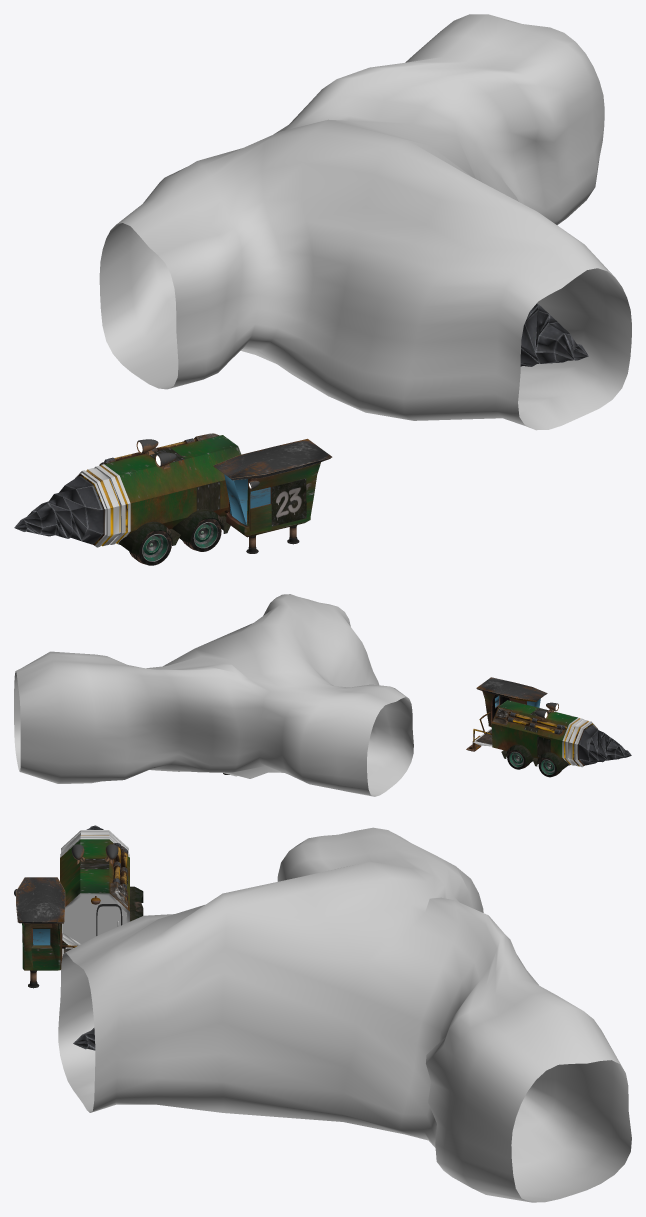
The model's file is TunnelMyFirst.fbx.
The picture shows the model from 3 angles, top to bottom: view 1: azimuth 30°, elevation 25°; view 2: azimuth 150°, elevation 25°; view 3: azimuth 270°, elevation 25°; orthographic projection. The views are drawn at different scales.
Parts seen in each view (by area): view 1: Turn3, defaultMaterial.005, defaultMaterial.003; view 2: Turn3, defaultMaterial.005; view 3: Turn3, defaultMaterial.005, defaultMaterial.085, defaultMaterial.002.
Boxes of the visible parts, <box> form: Turn3: <box>99,14,631,430</box>; defaultMaterial.005: <box>14,433,332,565</box>; defaultMaterial.003: <box>520,303,588,366</box>; Turn3: <box>14,594,413,796</box>; defaultMaterial.005: <box>466,677,631,777</box>; Turn3: <box>58,827,631,1202</box>; defaultMaterial.005: <box>14,825,143,970</box>; defaultMaterial.085: <box>63,896,126,943</box>; defaultMaterial.002: <box>97,906,120,935</box>.
Size of the model in its own units: 2336 by 636 by 1643.
